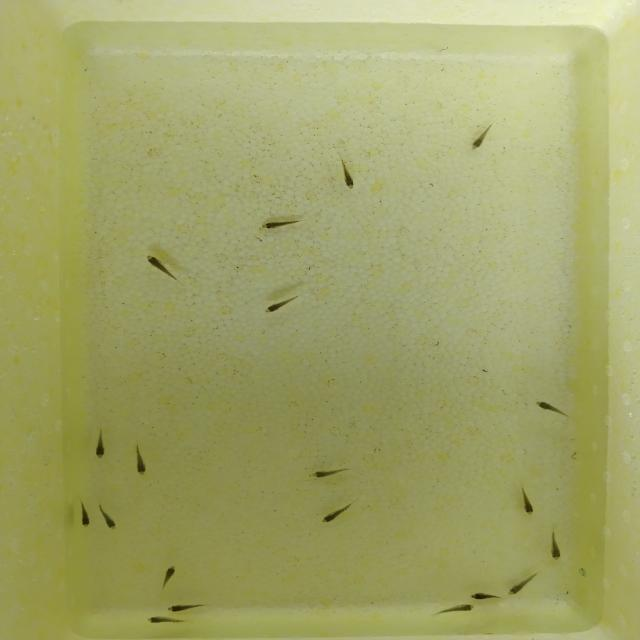fingerling: (304, 458, 364, 484), (260, 287, 308, 319), (141, 249, 182, 286), (253, 210, 303, 240), (329, 152, 363, 194), (508, 482, 543, 520), (310, 502, 361, 528), (87, 426, 118, 467), (461, 121, 500, 153), (528, 395, 574, 422), (153, 559, 183, 593), (95, 500, 124, 533), (542, 530, 568, 566), (164, 597, 209, 615), (506, 573, 538, 598), (129, 446, 153, 479), (431, 603, 480, 618), (73, 497, 93, 529), (143, 614, 186, 628), (461, 588, 498, 600)
